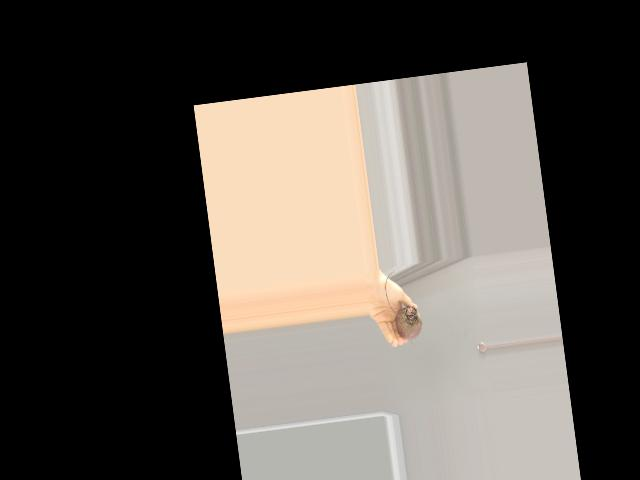beet: (382, 269, 424, 350)
